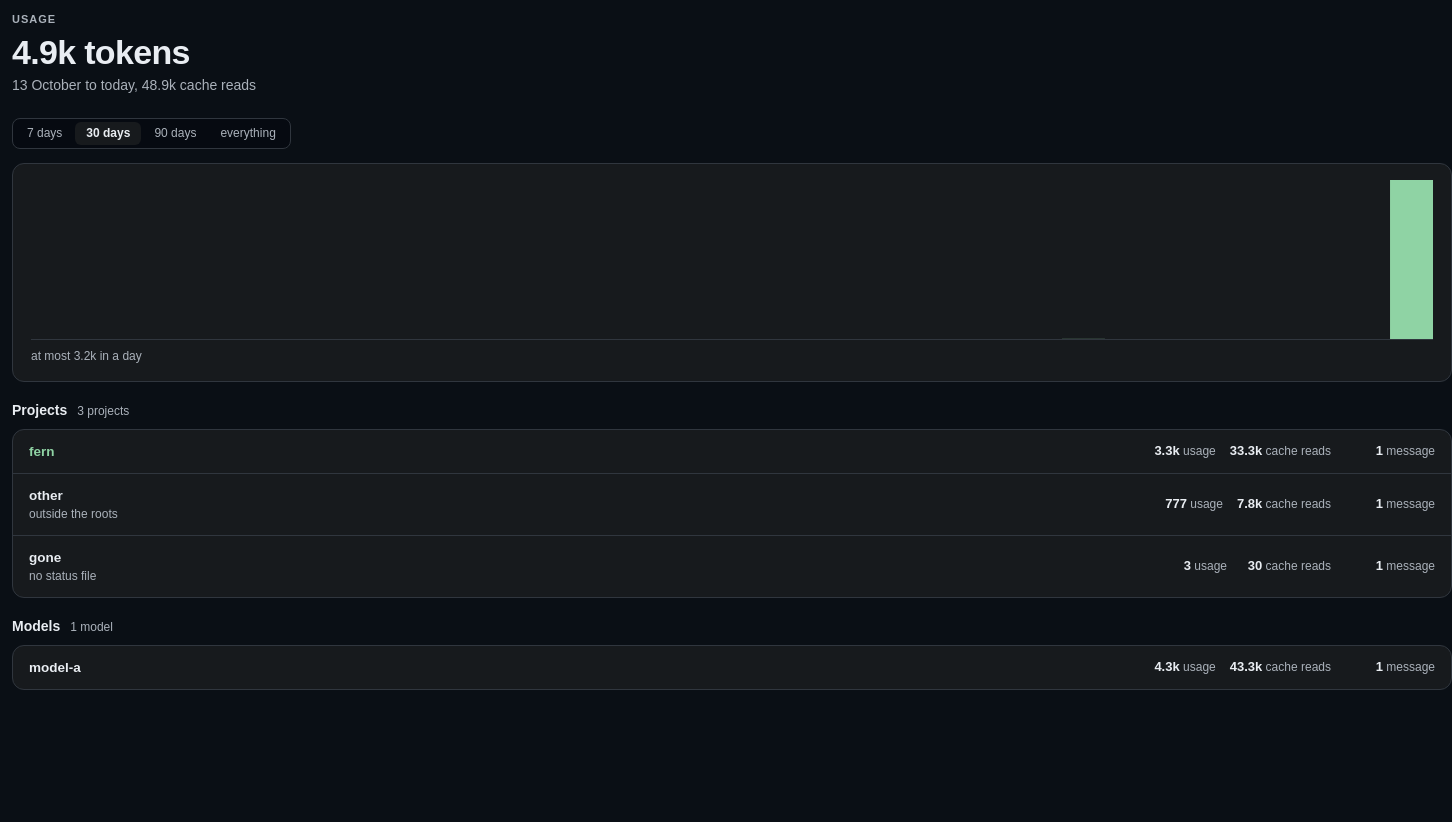
a failed period says so above the filter and keeps the figures
The width and height of the screenshot is (1452, 822).
Check: the heading "4.9k tokens" is shown, box [12,34,190,71]
Click the button "7 days" at x=45, y=133, box [16,122,73,145]
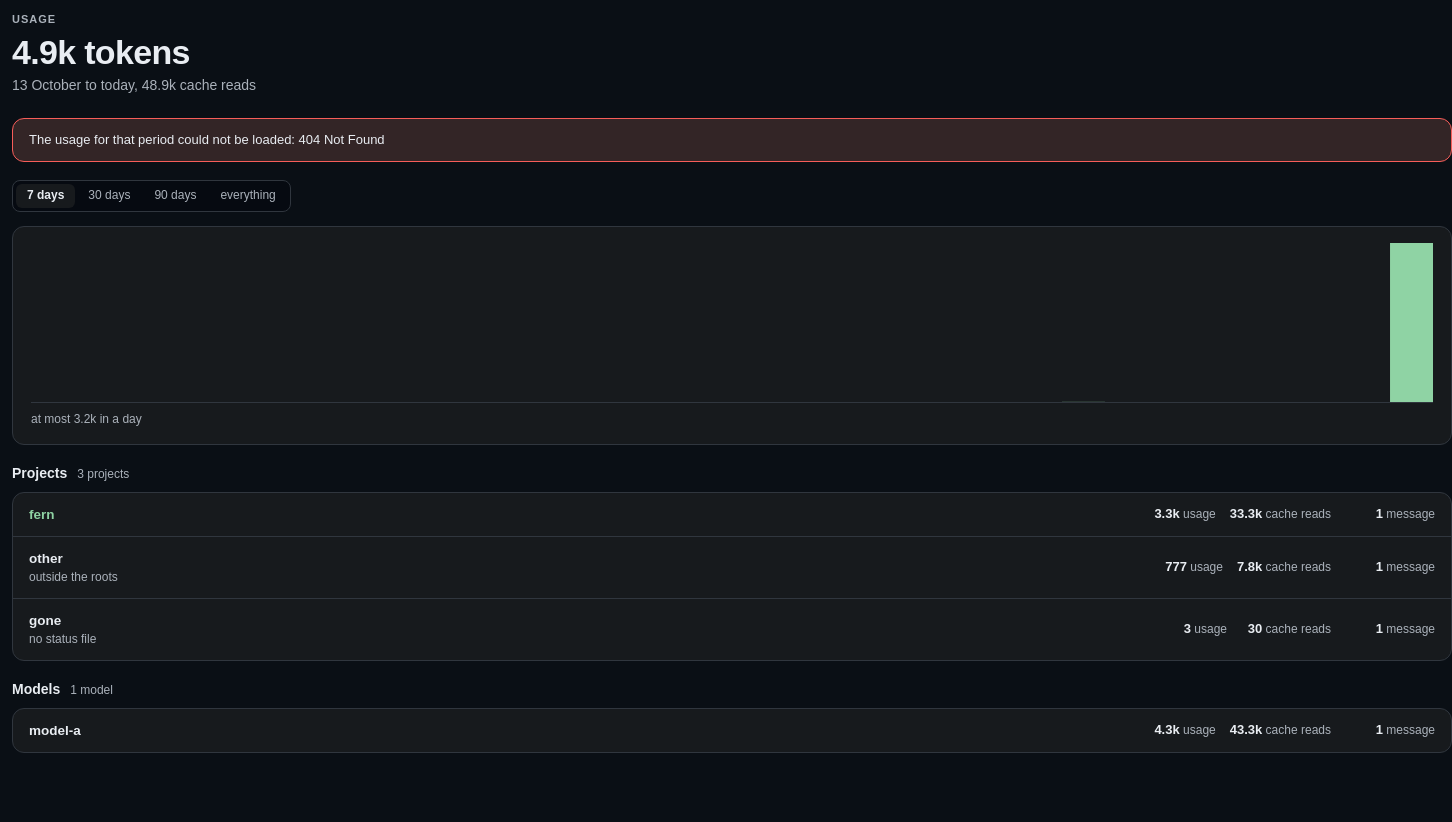
Check: the element named "Period" is shown, box [12,180,291,212]
Check: the message reads "The usage for that period could not be loaded: 404 Not Found", box [12,118,1451,162]
